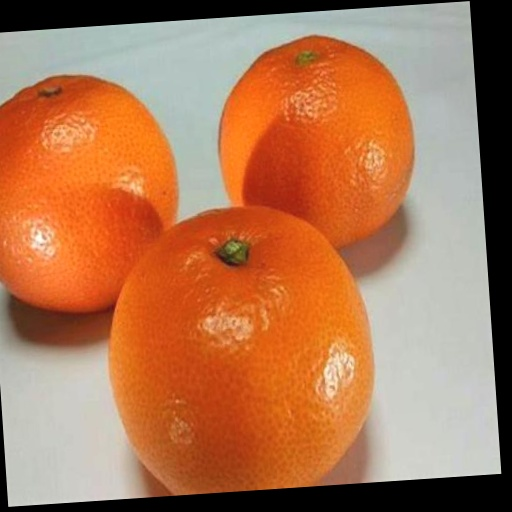fruit: (109, 207, 373, 495), (0, 75, 177, 312), (219, 36, 413, 246)
